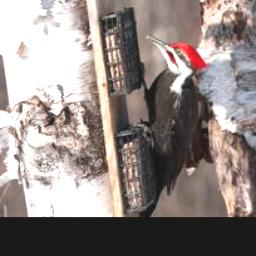Woodpecker: (132, 33, 211, 196)
